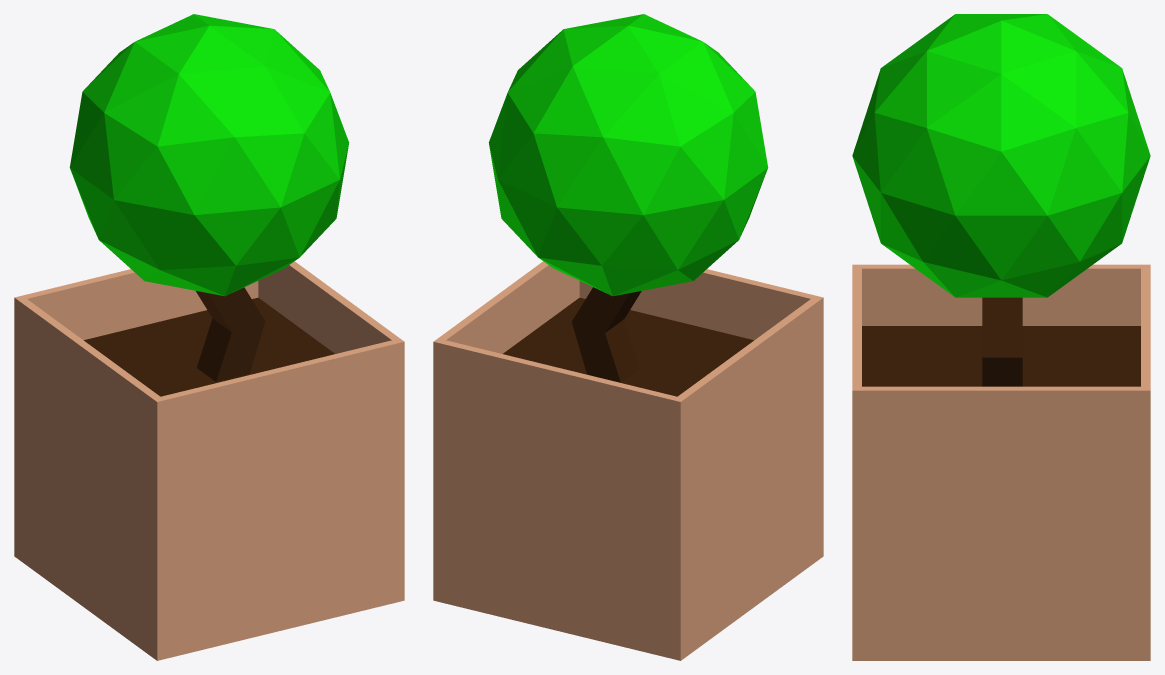
The model's file is arbol2.glb.
3 views of the same model, side by side, from view 1: azimuth 30°, elevation 25°; view 2: azimuth 150°, elevation 25°; view 3: azimuth 270°, elevation 25° (orthographic). The views are drawn at different scales.
Parts seen in each view (by area): view 1: Cube; view 2: Cube; view 3: Cube.
Boxes of the visible parts, box(x1,y1,x2,y2) form: Cube: box(14, 14, 404, 660); Cube: box(433, 14, 823, 660); Cube: box(852, 14, 1150, 660).
Size of the model in its own units: 2 by 4.27 by 2.
